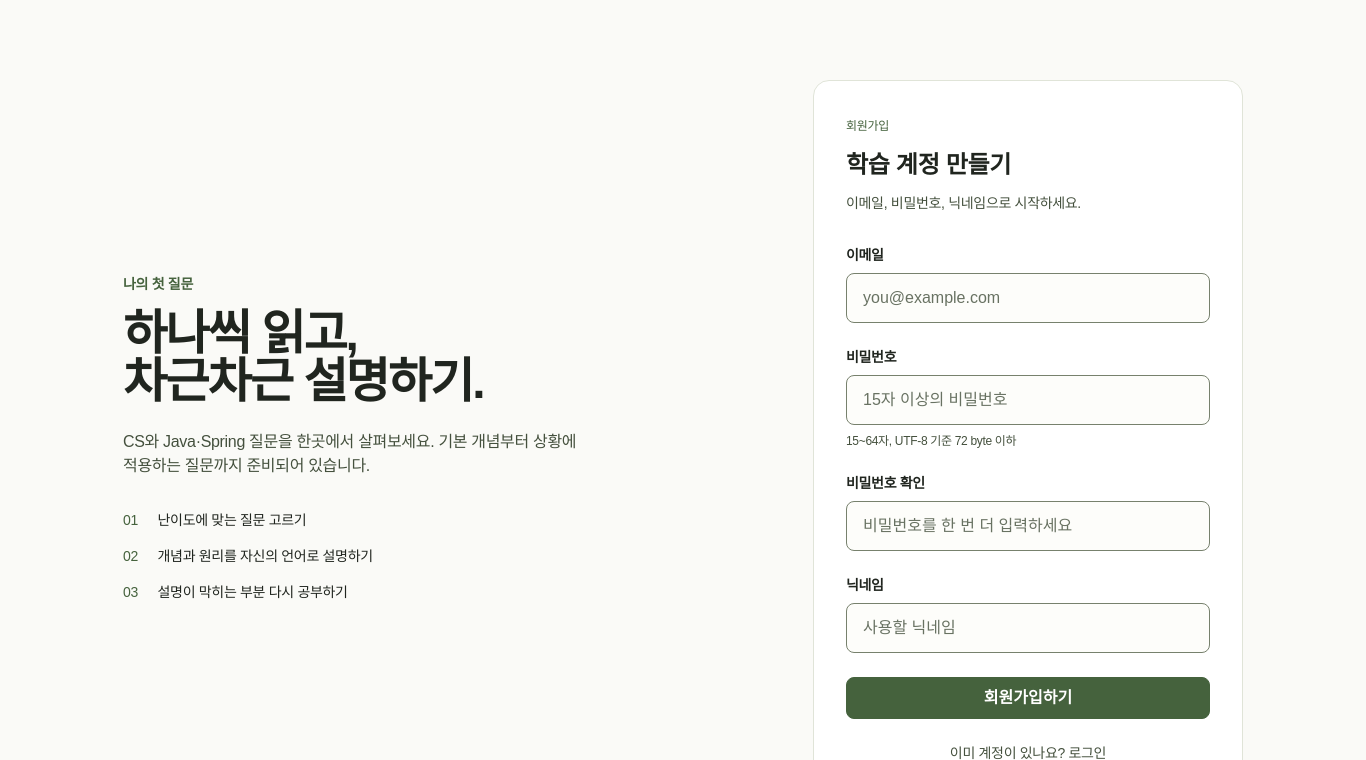
Scenario: 회원가입 화면 › 서버 내부 오류 대신 복구 안내를 표시하고 입력을 보존한다
Type "user@example.com" into the field named "email" at (1028, 298), box [846,273,1210,323]
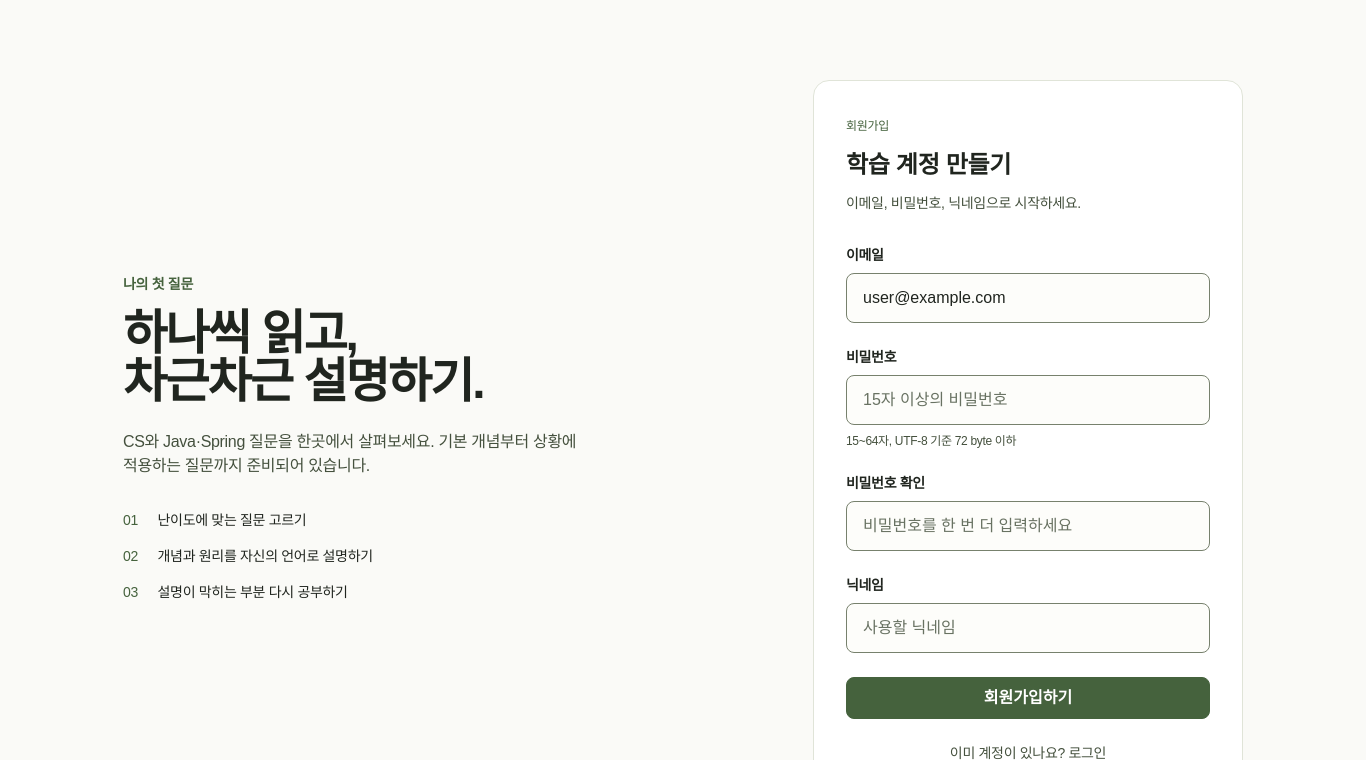
Type "test-password-value" into the password field named "password" at (1028, 400), box [846,375,1210,425]
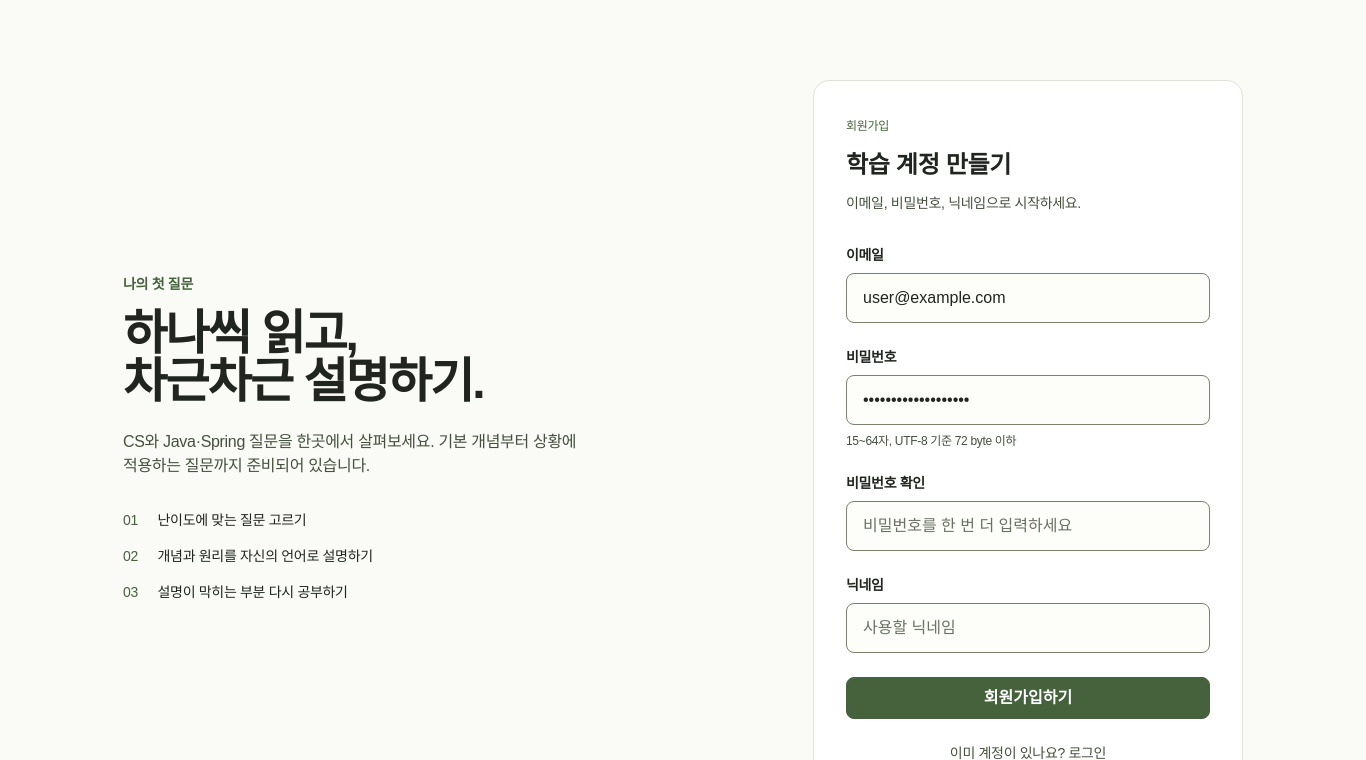
Type "test-password-value" into the password field named "passwordConfirmation" at (1028, 526), box [846,501,1210,551]
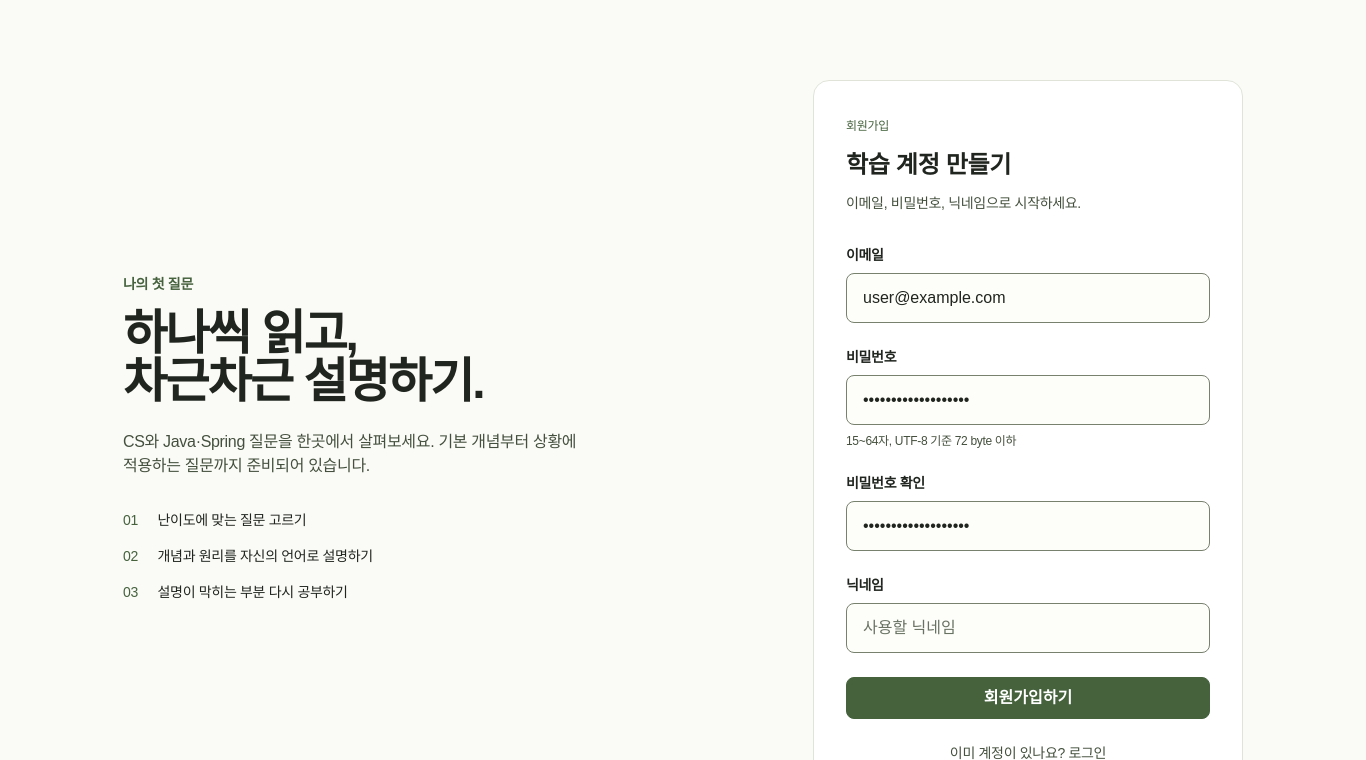
Submit the form, box [846,245,1210,719]
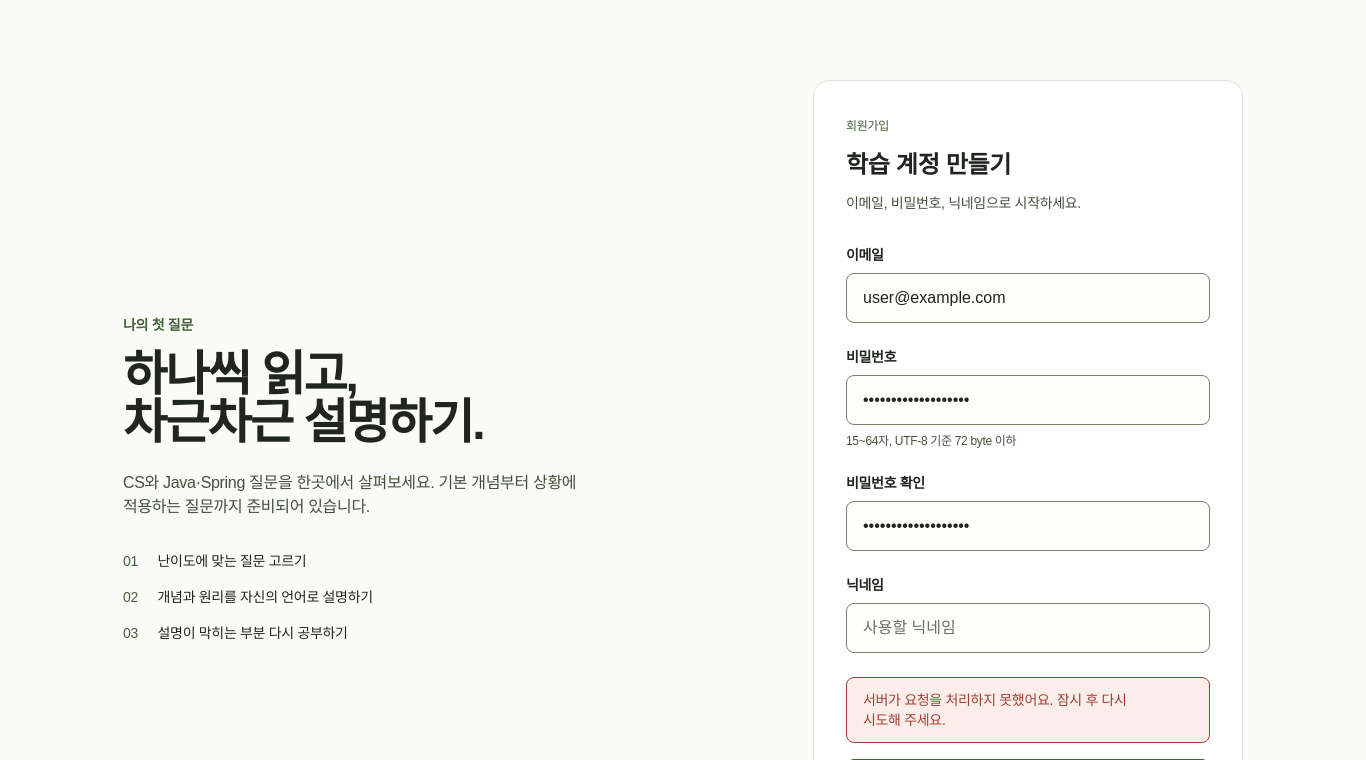
Check: the message "서버가 요청을 처리하지 못했어요. 잠시 후 다시 시도해 주세요." is shown, box [846,677,1210,743]
